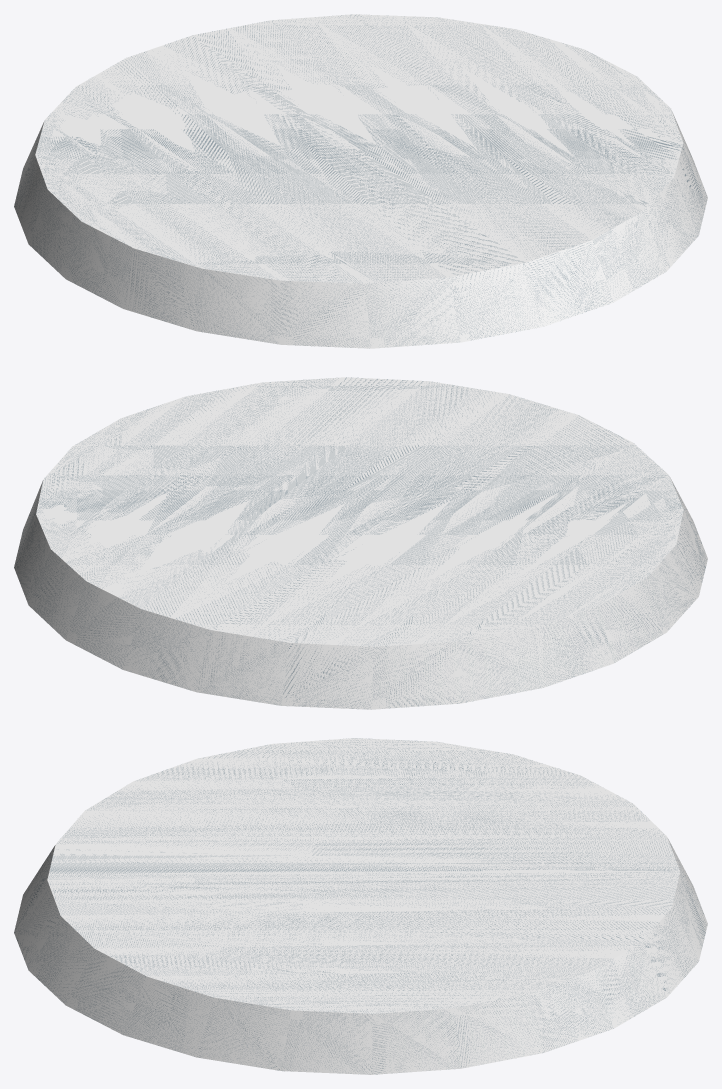
File: ground.dae
3 renders of one model, top to bottom at view 1: azimuth 30°, elevation 25°; view 2: azimuth 150°, elevation 25°; view 3: azimuth 270°, elevation 25°, orthographic.
Parts seen in each view (by area): view 1: SketchUp; view 2: SketchUp; view 3: SketchUp.
Boxes of the visible parts, <box> form: SketchUp: <box>14,14,707,348</box>; SketchUp: <box>14,377,707,709</box>; SketchUp: <box>14,738,707,1074</box>.
Size of the model in its own units: 1513 by 1513 by 125.
